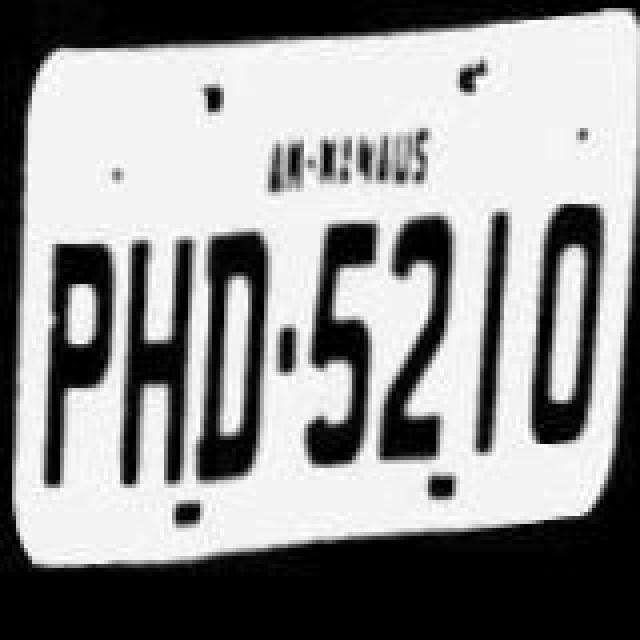1: (462, 200, 518, 452)
2: (378, 214, 466, 466)
5: (300, 218, 384, 474)
D: (198, 214, 278, 490)
H: (122, 214, 202, 486)
O: (526, 192, 614, 448)
P: (40, 220, 124, 492)
